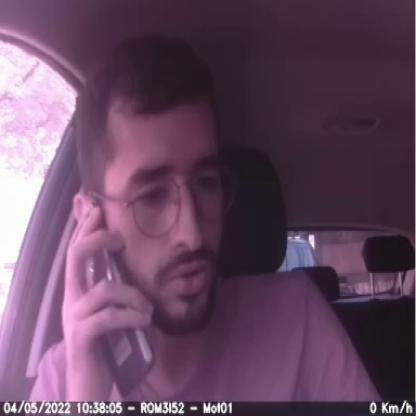phone: (78, 218, 154, 394)
